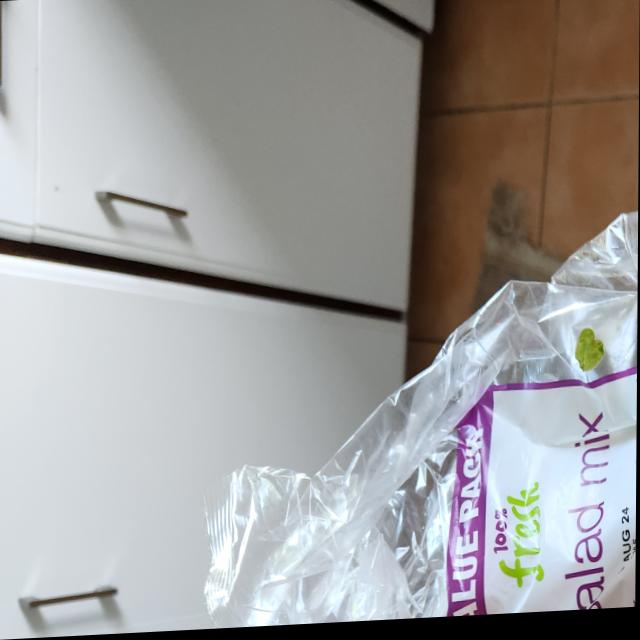salad: (204, 151, 639, 632)
